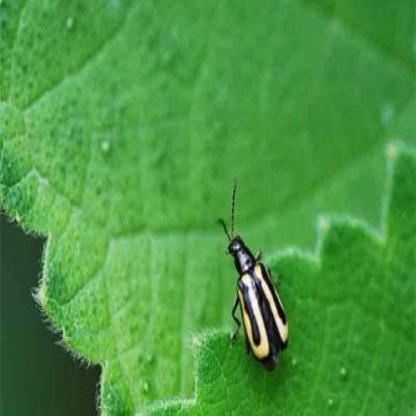beetle: (218, 181, 296, 381)
